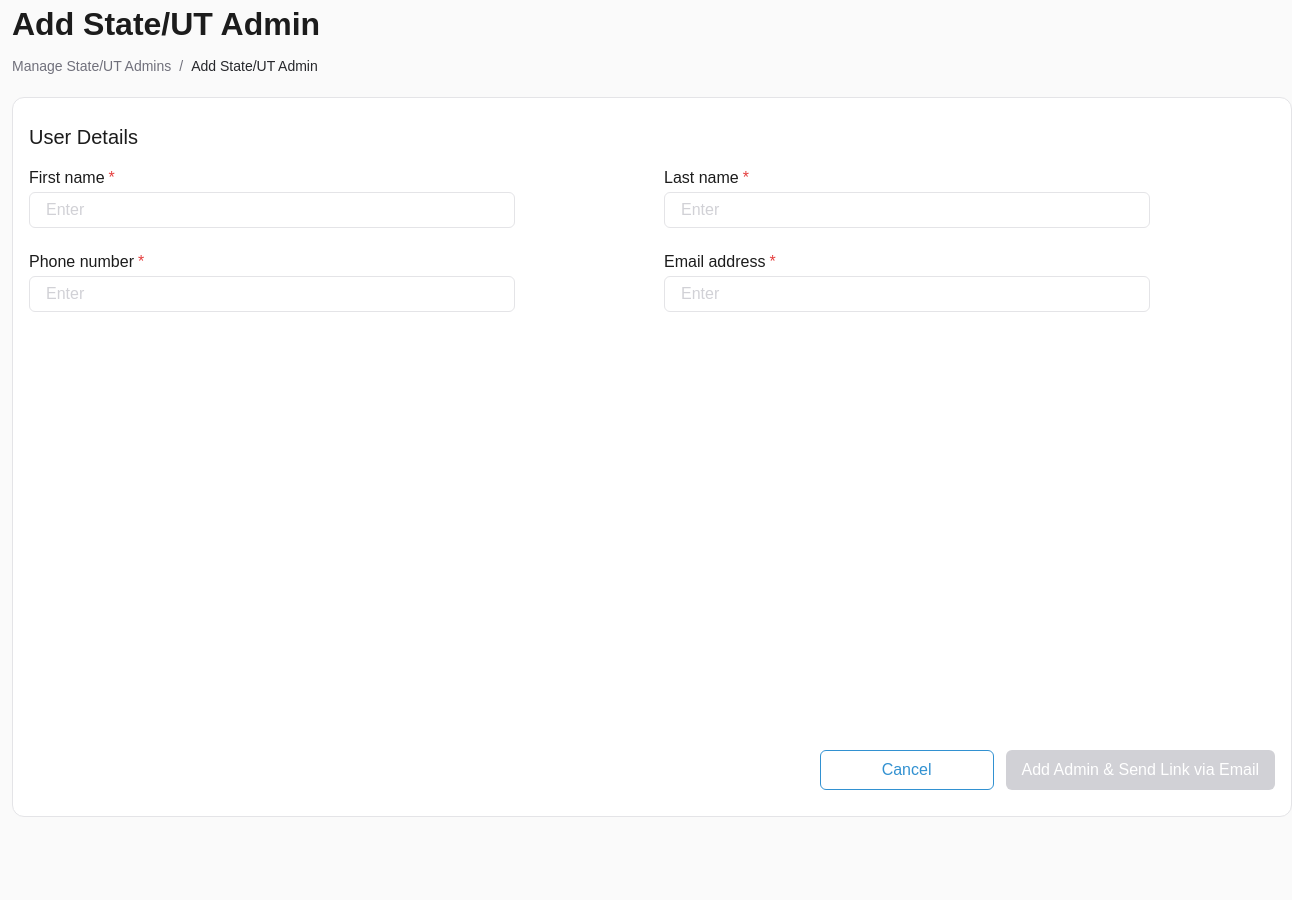
Test: InviteStateUTAdminPage › first name validation › shows alphabetic error when non-alpha chars entered
Type "john@example.com" into the field labelled "First name*".
click(272, 210); type("john@example.com")  # box x1=29 y1=192 x2=515 y2=228
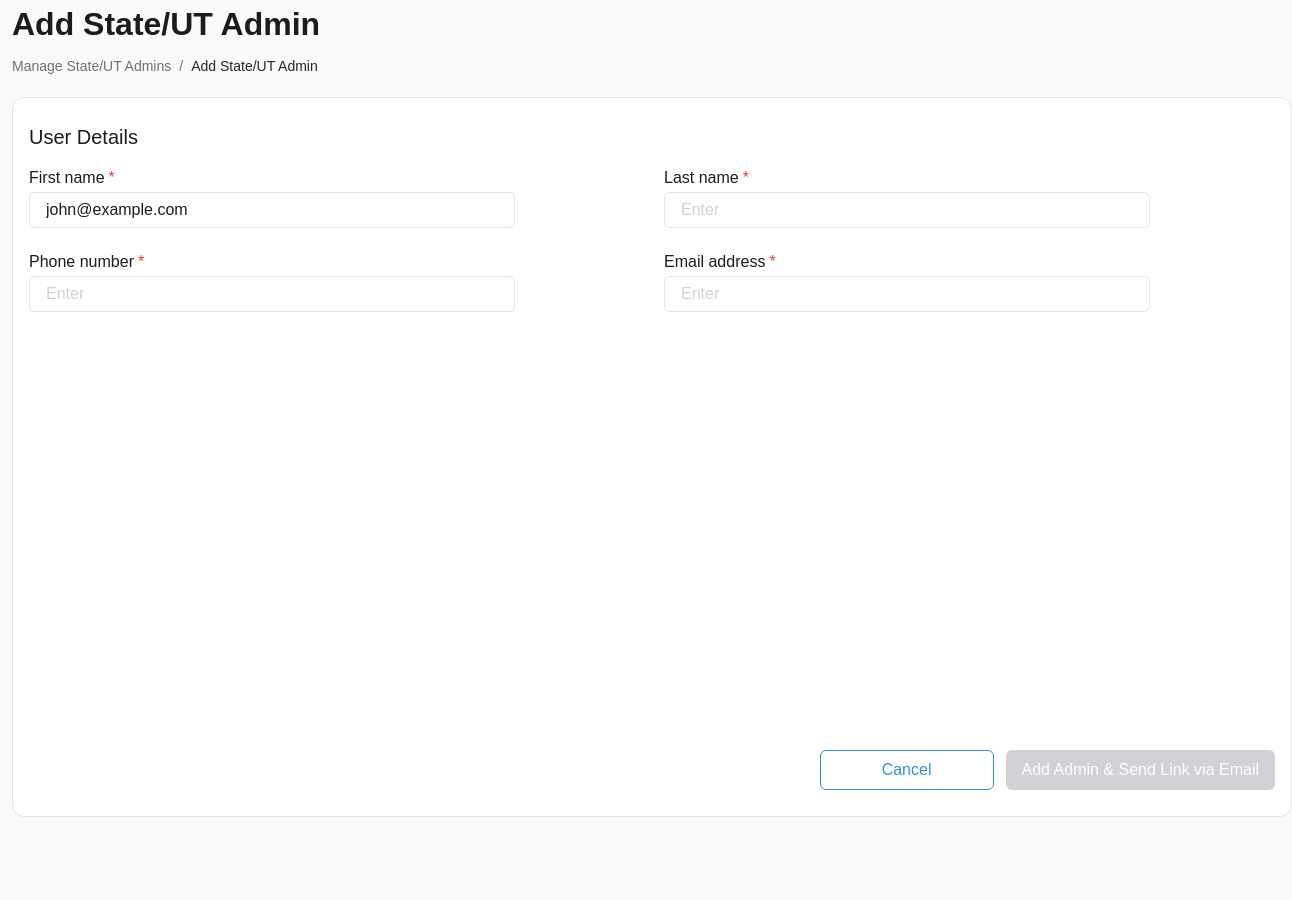
Leave the field labelled "First name*", box x1=29 y1=192 x2=515 y2=228
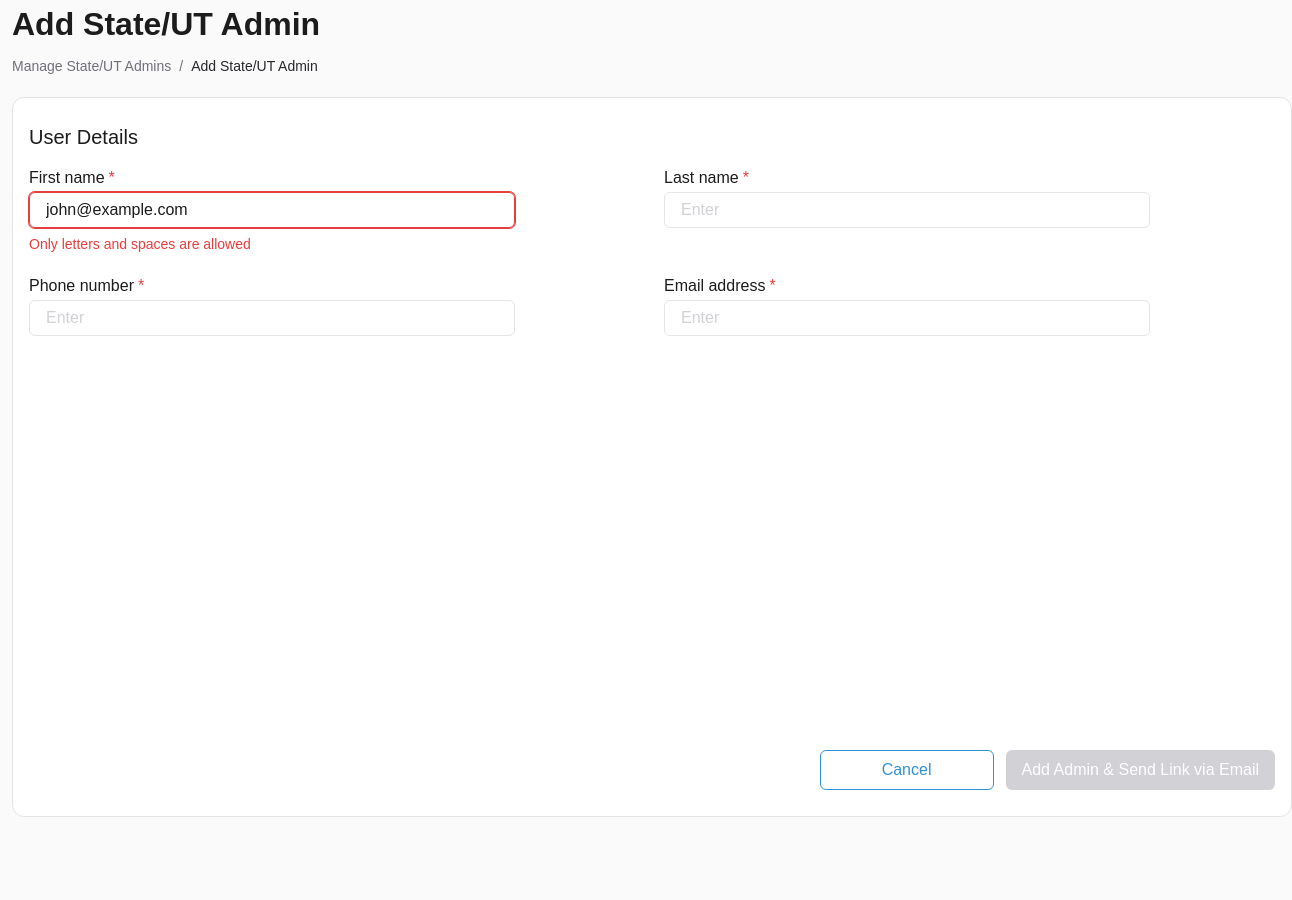
Expected: the text "Only letters and spaces are allowed" is shown, x1=29 y1=236 x2=251 y2=252
